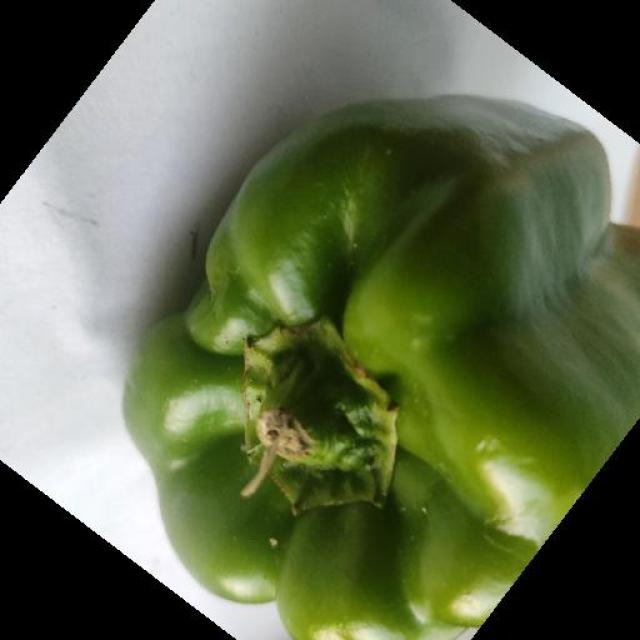Fresh_Capsicum: (169, 100, 640, 640)
